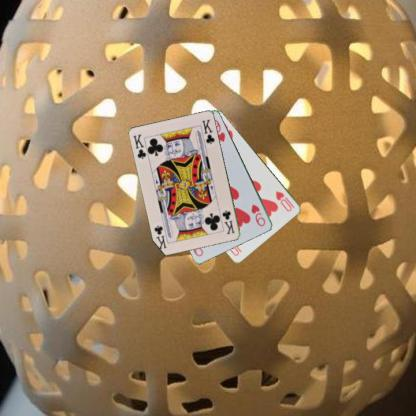10h: (273, 188, 296, 213)
9h: (248, 202, 267, 228)
Kc: (130, 132, 147, 160), (220, 208, 236, 236)
